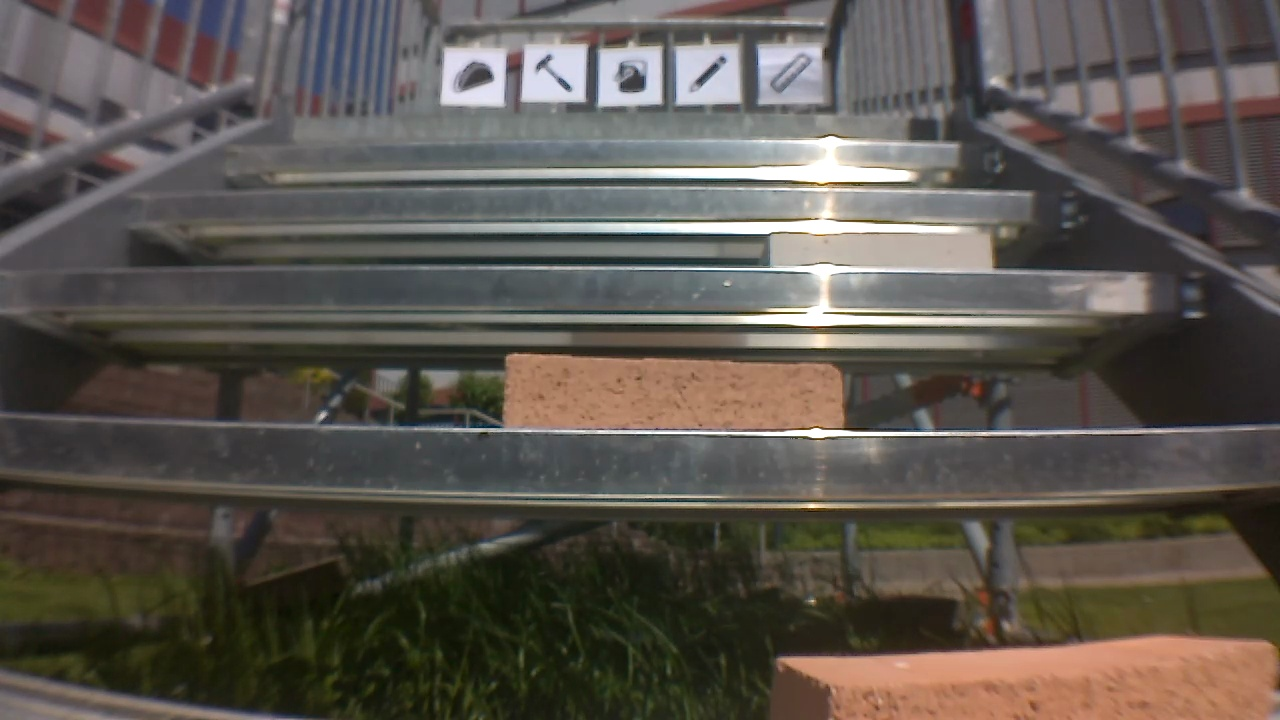brick: (786, 634, 1280, 720), (494, 352, 850, 426), (768, 230, 1000, 267)
bucket: (613, 58, 650, 93)
edge: (9, 426, 1280, 496), (0, 268, 1216, 316), (112, 189, 1091, 232), (218, 142, 1009, 181), (274, 115, 963, 146)
hammer: (531, 55, 576, 97)
pencil: (683, 55, 736, 98)
ruler: (765, 54, 811, 95)
steps: (4, 92, 1280, 720)
taco: (450, 61, 494, 94)
